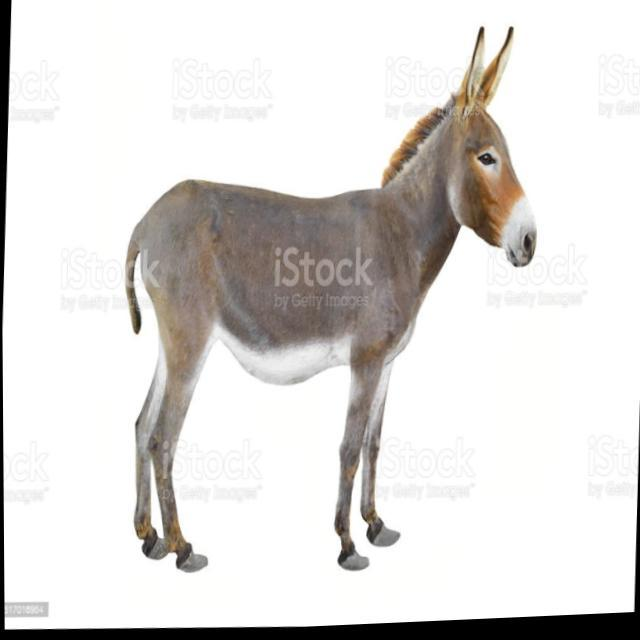Donkey: (112, 17, 546, 588)
